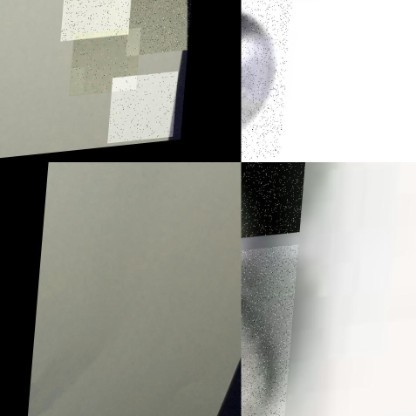ironball: (241, 248, 300, 415), (241, 0, 296, 162), (241, 162, 308, 253), (112, 78, 182, 149), (73, 33, 144, 101), (129, 0, 195, 62), (63, 0, 136, 46)
